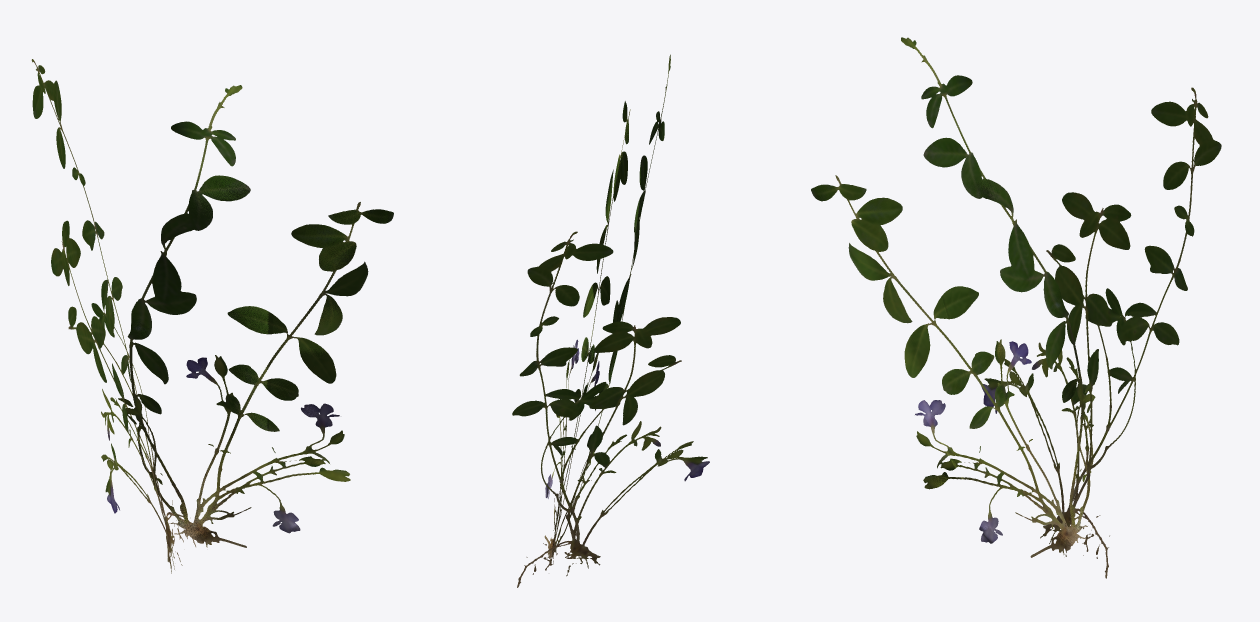
Rendered from pm_vinca.fbx.
3 views of the same model, side by side, from view 1: azimuth 30°, elevation 25°; view 2: azimuth 150°, elevation 25°; view 3: azimuth 270°, elevation 25° (orthographic). The views are drawn at different scales.
Parts seen in each view (by area): view 1: Vinca; view 2: Vinca; view 3: Vinca.
Boxes of the visible parts, x1,y1,x2,y2 form: Vinca: (31,59,393,573); Vinca: (512,54,709,587); Vinca: (811,37,1221,578).
Size of the model in its own units: 42.26 by 96.02 by 70.71.
1 material, 1 textured.
